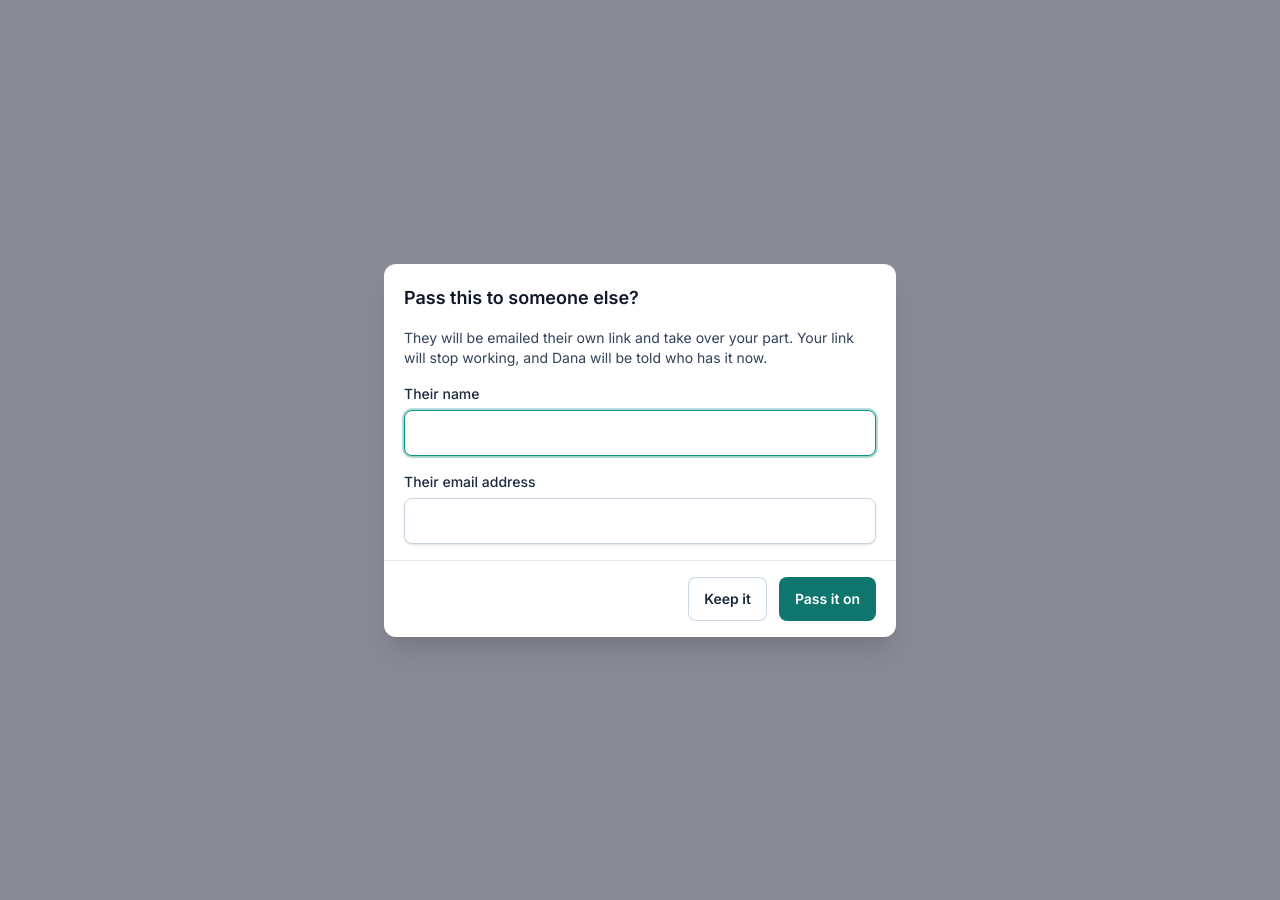
Test: DelegateDialog › asks for both a name and an address, and sends nothing without them
Click the button "Pass it on" at coordinates (827, 598), box left=779, top=576, right=876, bottom=620
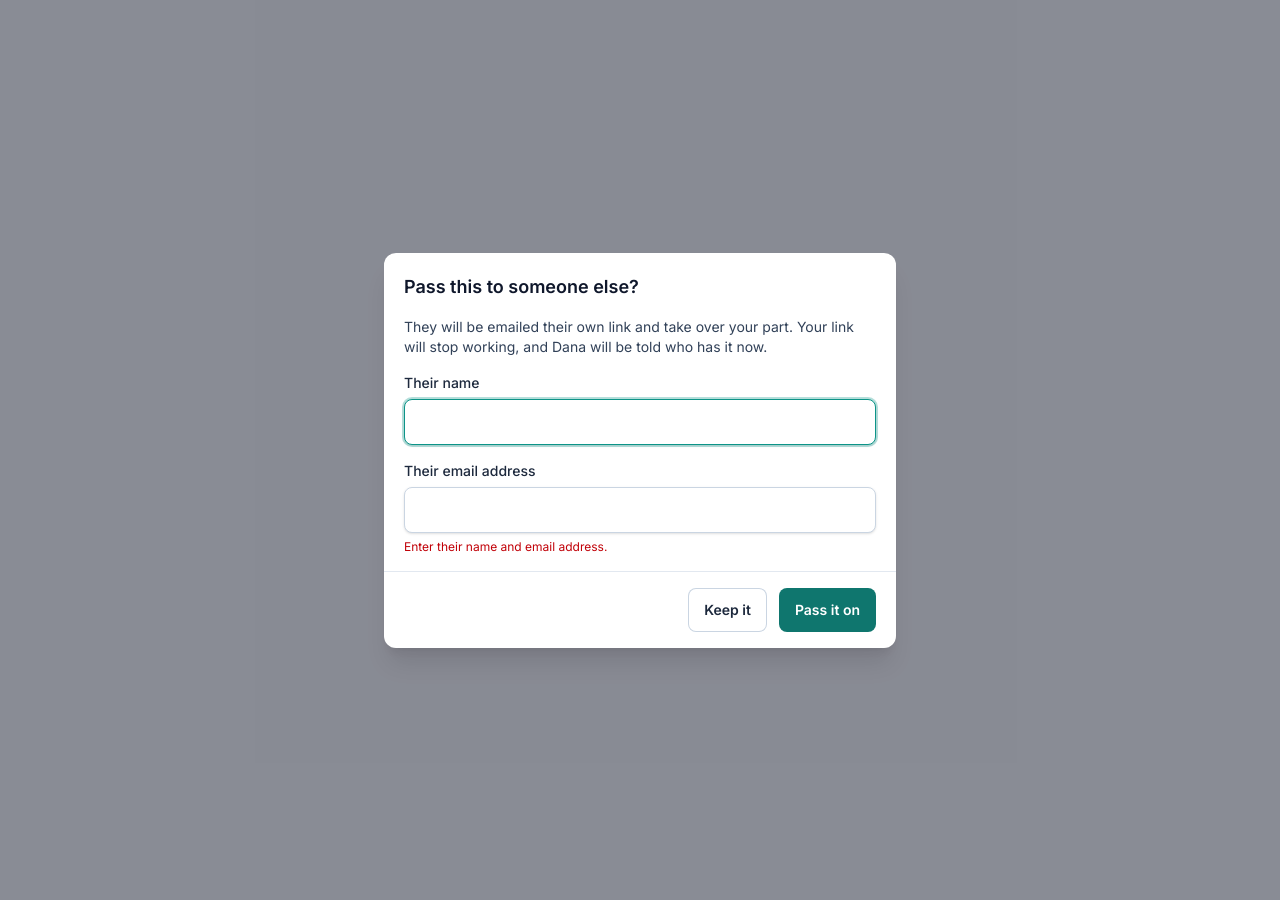
Expected: the text "Enter their name and email address." is shown, left=404, top=538, right=607, bottom=554
